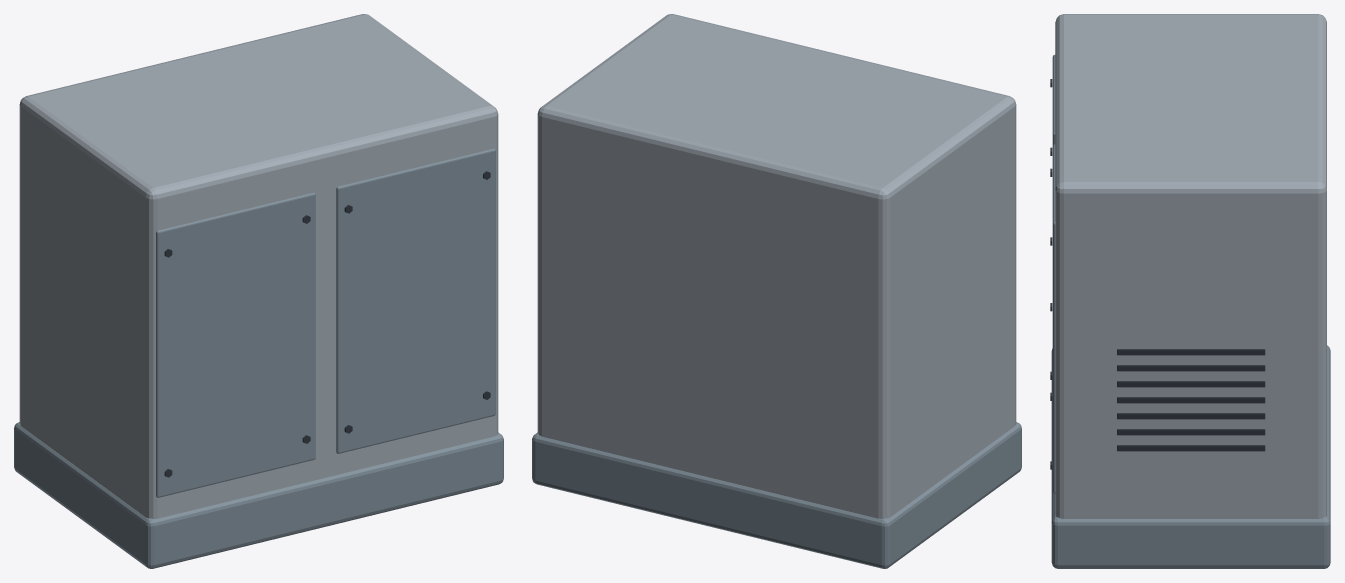
The model's file is specimen_terminal_case.glb.
3 renders of one model, left to right at view 1: azimuth 30°, elevation 25°; view 2: azimuth 150°, elevation 25°; view 3: azimuth 270°, elevation 25°, orthographic.
Visible parts, largest first — view 1: specimen_terminal_case; view 2: specimen_terminal_case; view 3: specimen_terminal_case.
Boxes of the visible parts, x1,y1,x2,y2 form: specimen_terminal_case: [14, 14, 503, 568]; specimen_terminal_case: [532, 14, 1021, 568]; specimen_terminal_case: [1050, 14, 1330, 568].
Bounding box in the file's own units: 1.19 × 1.2 × 0.794.
